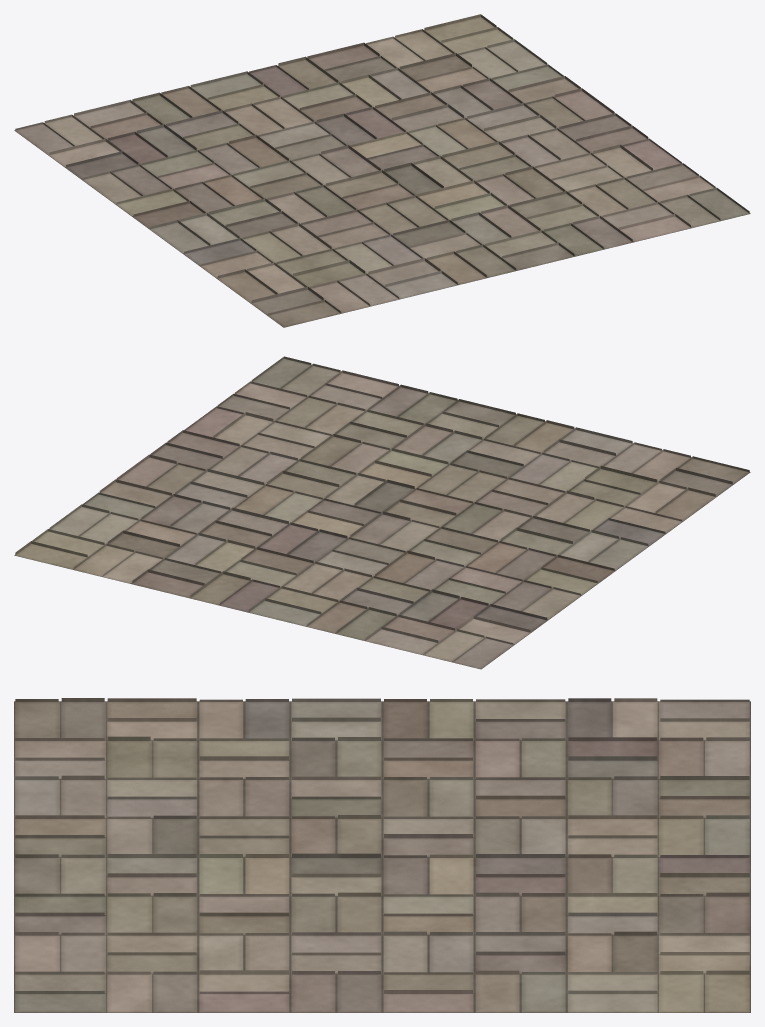
The model's file is E07_SOLOZ2_P2_PAVER_RETANGULAR_A.glb.
3 renders of one model, top to bottom at view 1: azimuth 30°, elevation 25°; view 2: azimuth 150°, elevation 25°; view 3: azimuth 270°, elevation 25°, orthographic. The views are drawn at different scales.
Visible parts, largest first — view 1: substrato_pbr_juntas, pecas_minerais_relevo_3d; view 2: substrato_pbr_juntas, pecas_minerais_relevo_3d; view 3: substrato_pbr_juntas, pecas_minerais_relevo_3d.
Boxes of the visible parts, x1,y1,x2,y2 form: substrato_pbr_juntas: (14, 17, 750, 327); pecas_minerais_relevo_3d: (15, 14, 749, 315); substrato_pbr_juntas: (14, 358, 750, 669); pecas_minerais_relevo_3d: (15, 356, 749, 661); substrato_pbr_juntas: (14, 701, 750, 1012); pecas_minerais_relevo_3d: (15, 698, 749, 993).
Bounding box in the file's own units: 2 × 0.0129 × 2.
Materials: 1 (1 with a texture image).
